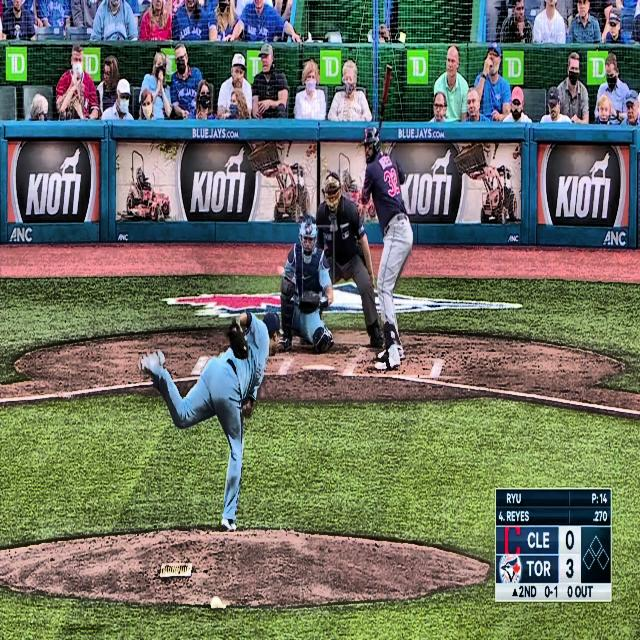baseball: (277, 264, 286, 278)
